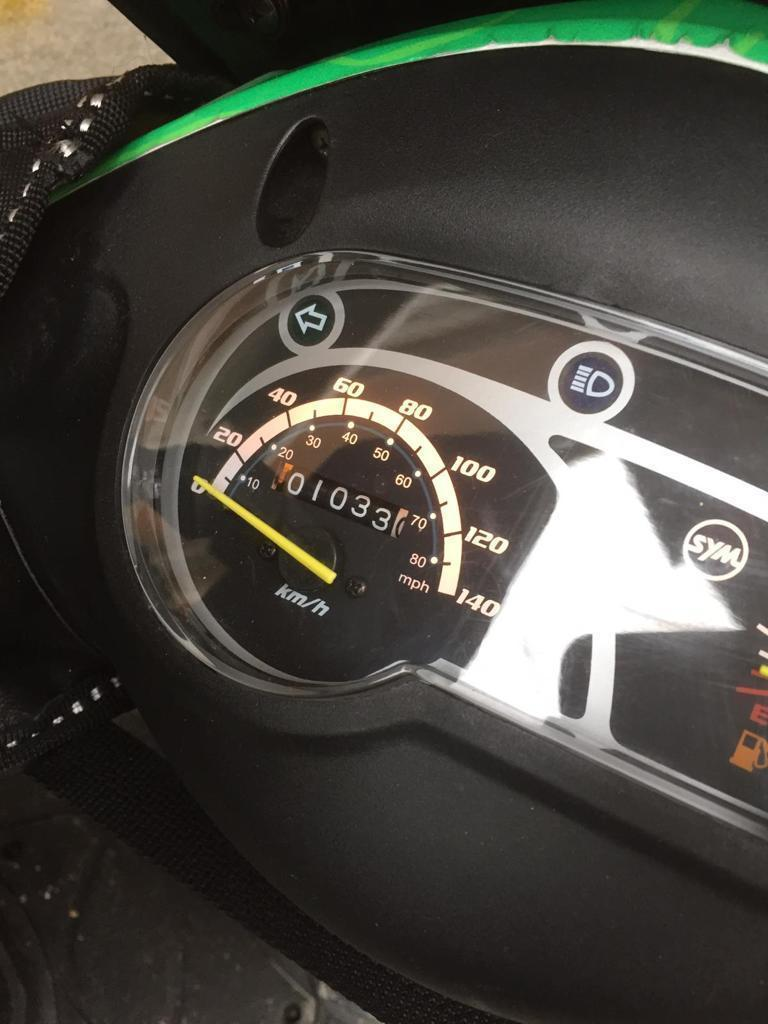0: (328, 484, 348, 511), (286, 471, 306, 496), (395, 516, 407, 538), (403, 476, 411, 489)
1: (310, 478, 324, 504)
3: (350, 492, 371, 519), (371, 505, 392, 531)
6: (394, 473, 404, 485)
odometer: (266, 460, 411, 542)
